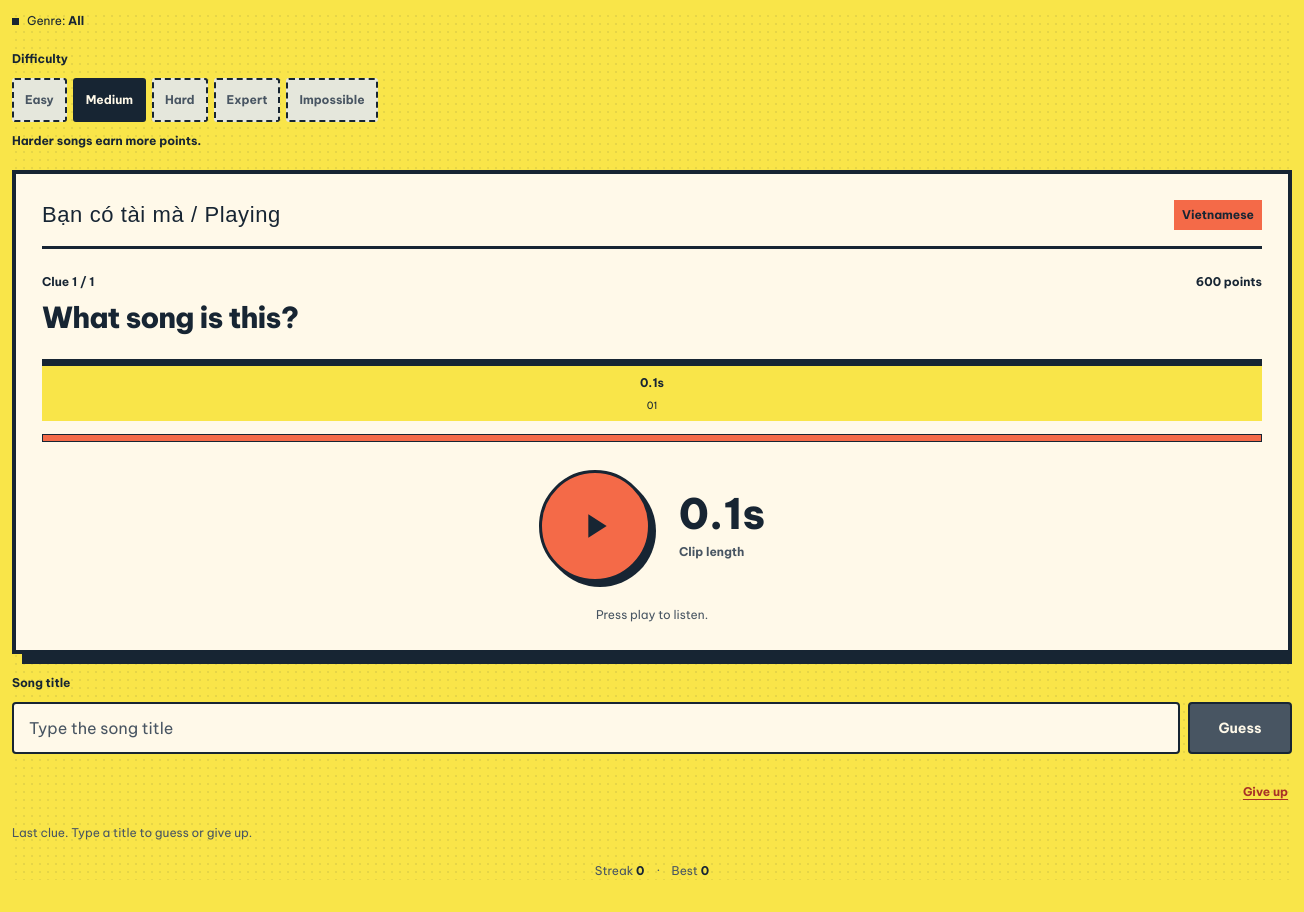
Test case: songs result › no available Meme leaves the result unobstructed
Type "Nơi Này Có Anh" into the field.
click(596, 728); type("Nơi Này Có Anh")  # box x1=27 y1=704 x2=1165 y2=752
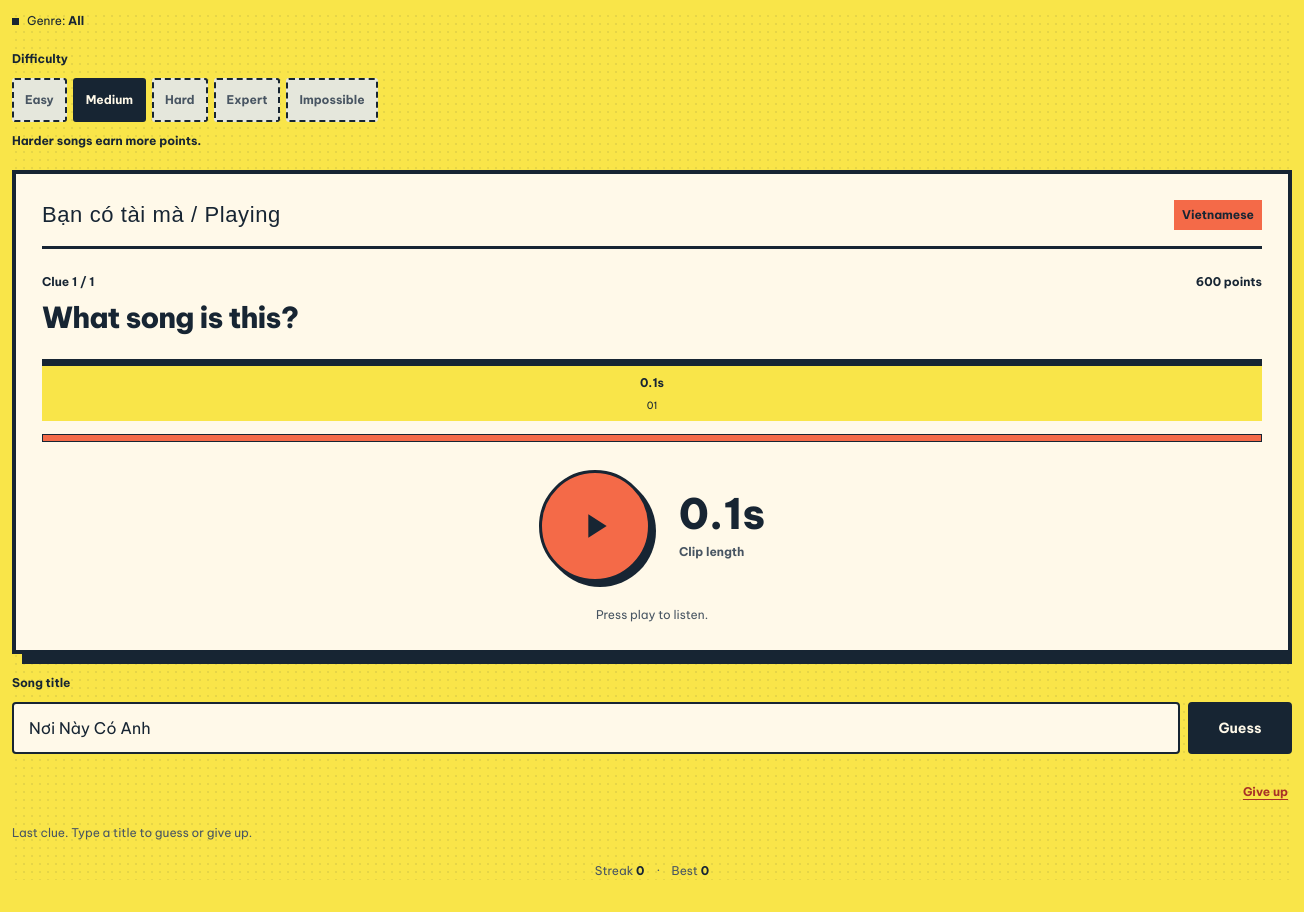
Click the button "Guess".
click(1240, 728)  # box x1=1188 y1=702 x2=1292 y2=754
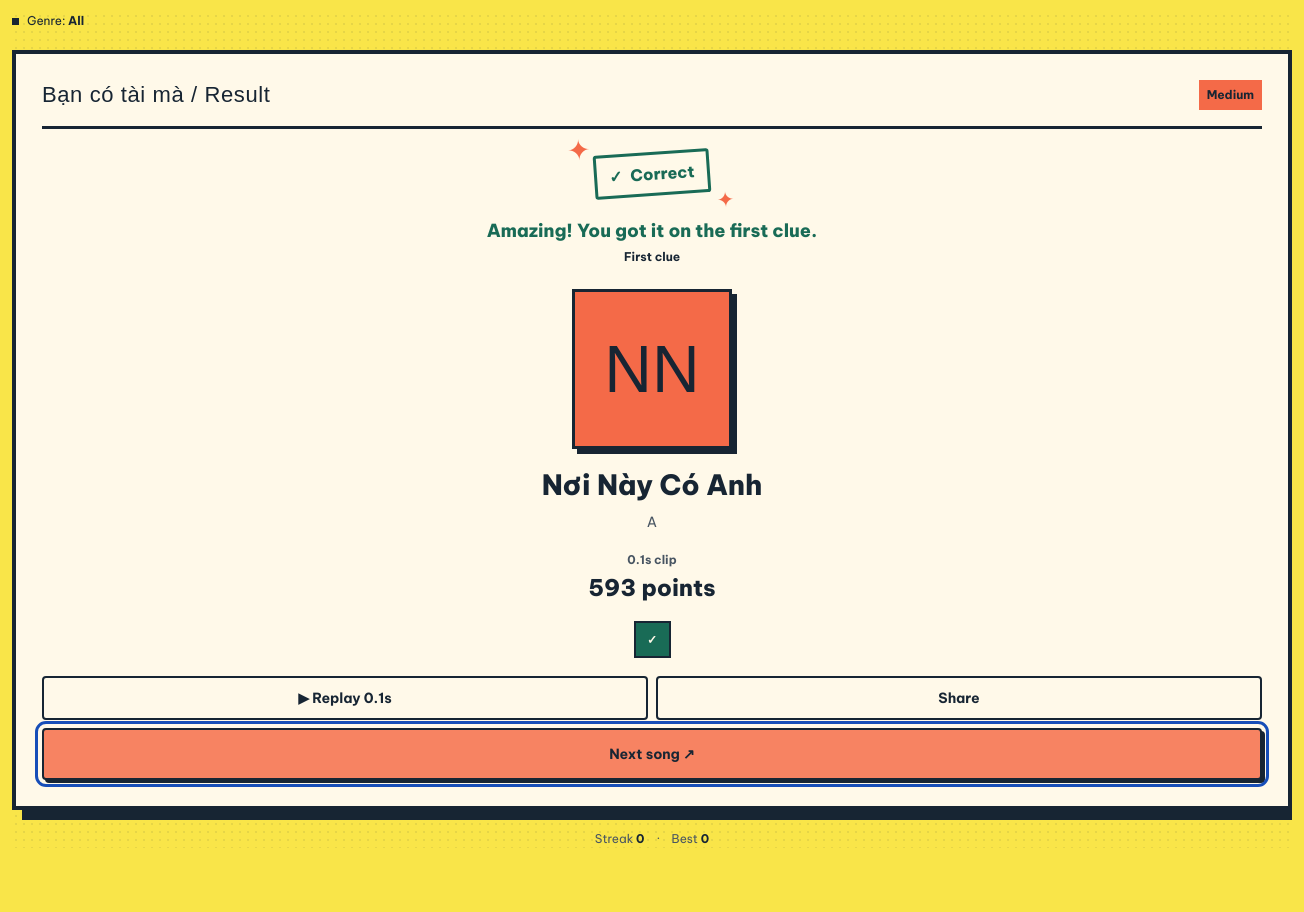
Expected: the button "Next song ↗" is shown, x1=42 y1=728 x2=1262 y2=780
